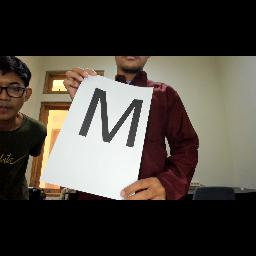m: (73, 80, 155, 156)
